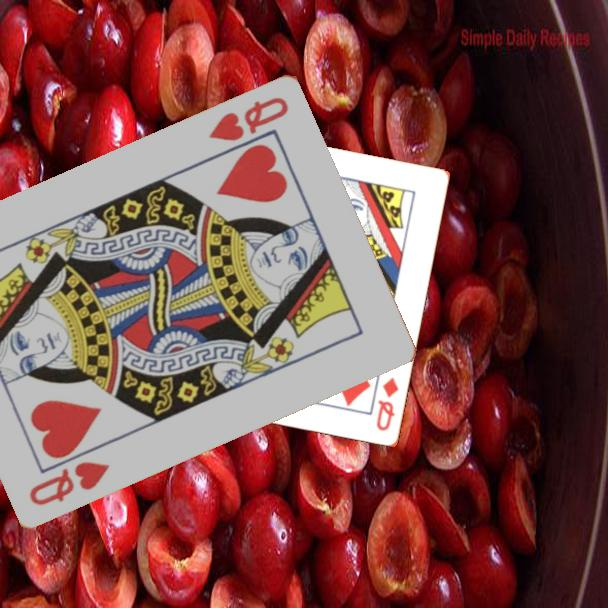d12: (373, 374, 402, 434)
h12: (25, 457, 113, 508), (205, 93, 292, 144)
